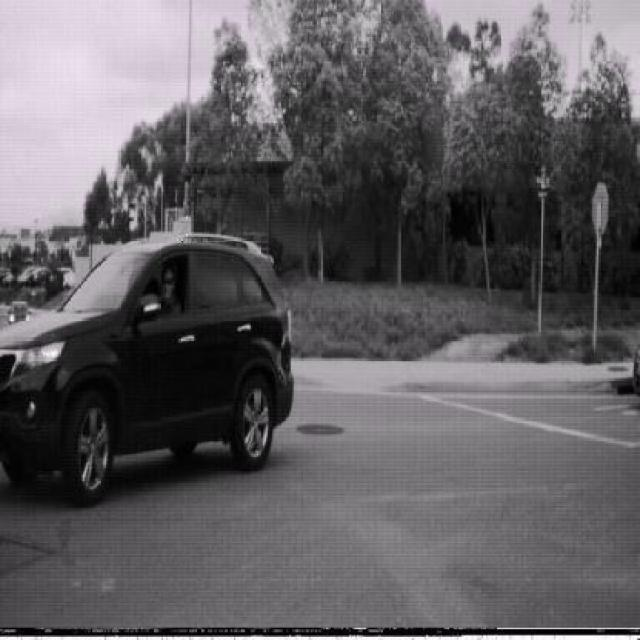speedLimit25: (177, 212, 192, 248)
